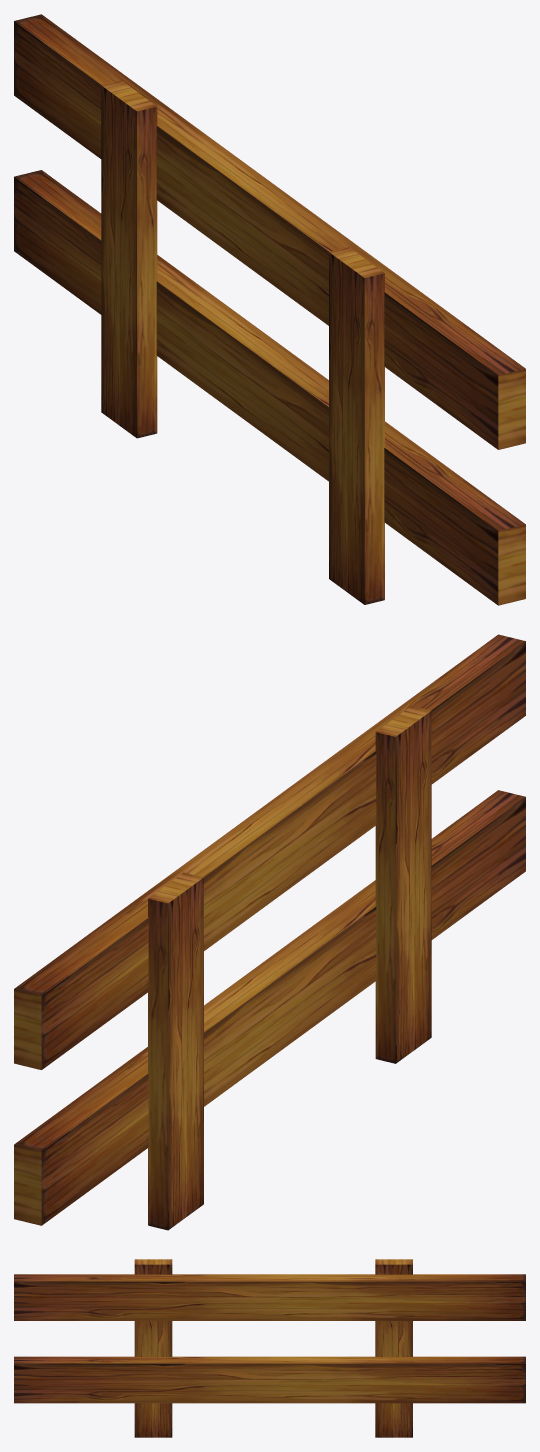
File: CercasComunFBX.fbx
3 renders of one model, top to bottom at view 1: azimuth 30°, elevation 25°; view 2: azimuth 150°, elevation 25°; view 3: azimuth 270°, elevation 25°, orthographic. The views are drawn at different scales.
Parts seen in each view (by area): view 1: Cube; view 2: Cube; view 3: Cube.
Part boxes in pixels (left/top/right/bottom): Cube: left=14, top=14, right=525, bottom=605; Cube: left=14, top=634, right=525, bottom=1230; Cube: left=14, top=1259, right=525, bottom=1437.
Bounding box in the file's own units: 28.81 × 190 × 511.
Materials: 1 (1 with a texture image).
